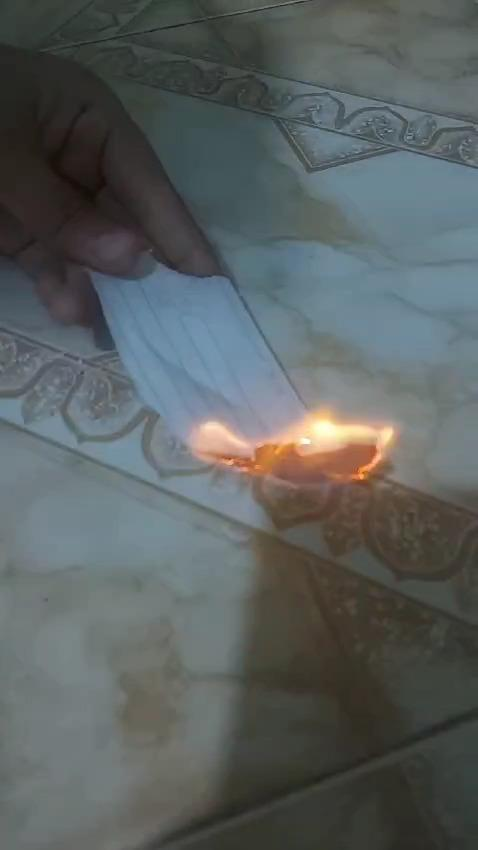Fire: (172, 404, 398, 488)
